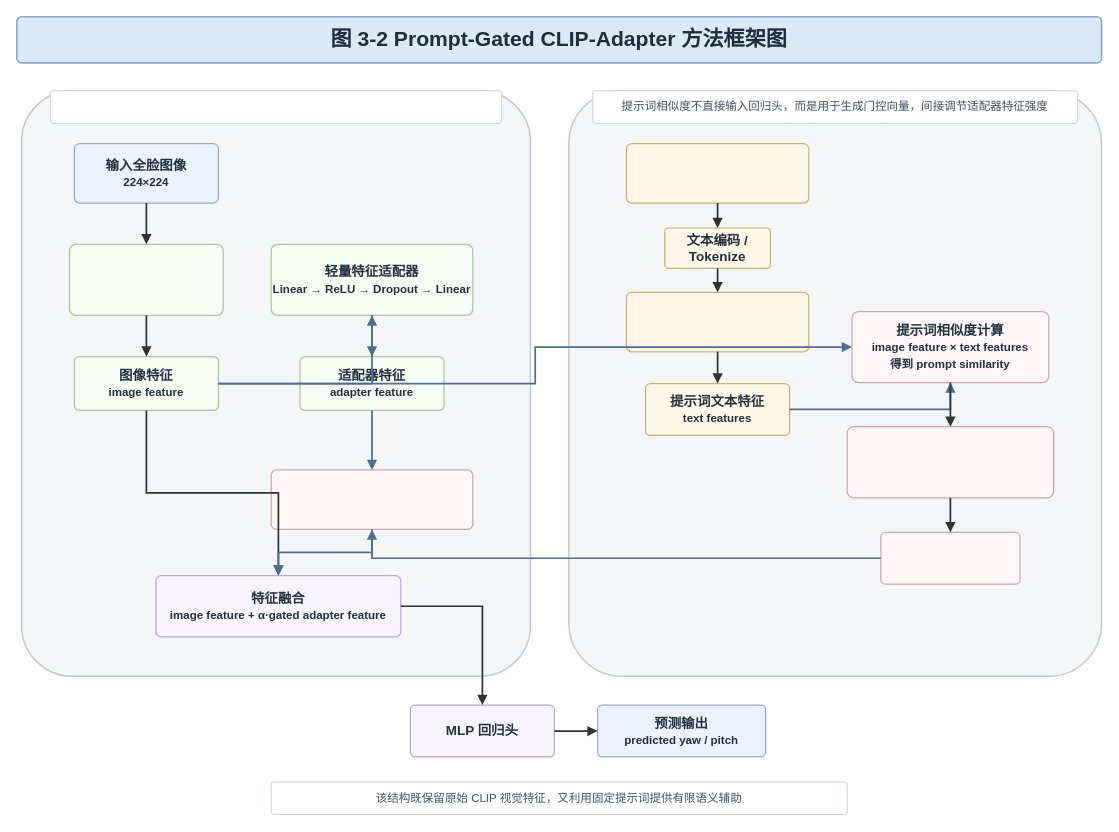
The diagram is 1119 pixels wide and 832 high, and some of its shapes have lost their labels. Each missing label, with the centre of its shape:
"Frozen CLIP image encoder ViT-B/32 参数冻结" belongs at [146,279].
"Frozen CLIP text encoder 参数冻结" belongs at [717,321].
"固定提示词集合 方向提示词 + 头眼关系提示词" belongs at [717,172].
"视觉分支负责提取全脸图像特征，并通过 adapter 学习任务相关的轻量特征修正" belongs at [275,106].
"门控后的适配器特征 gate ⊙ adapter feature" belongs at [371,499].
"门控向量 gate vector" belongs at [950,557].
"门控网络 Linear → ReLU → Dropout → Linear → Sigmoid" belongs at [950,462].
